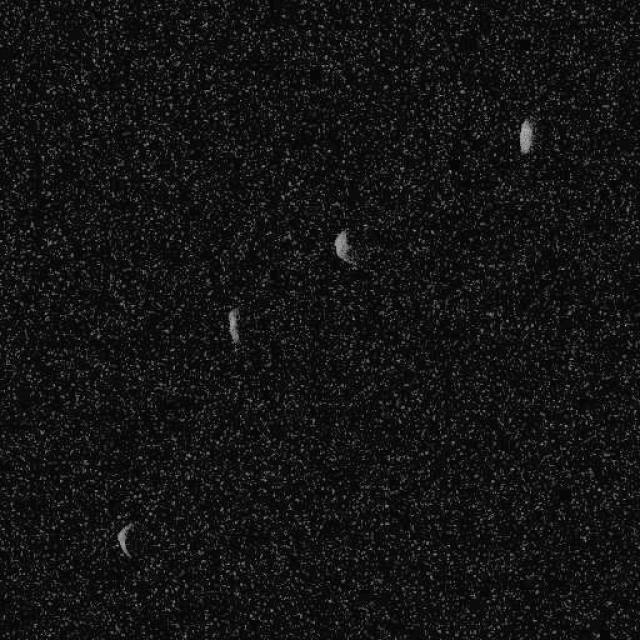D2: (332, 227, 353, 265), (115, 521, 135, 559), (225, 305, 241, 345), (518, 116, 534, 154)
